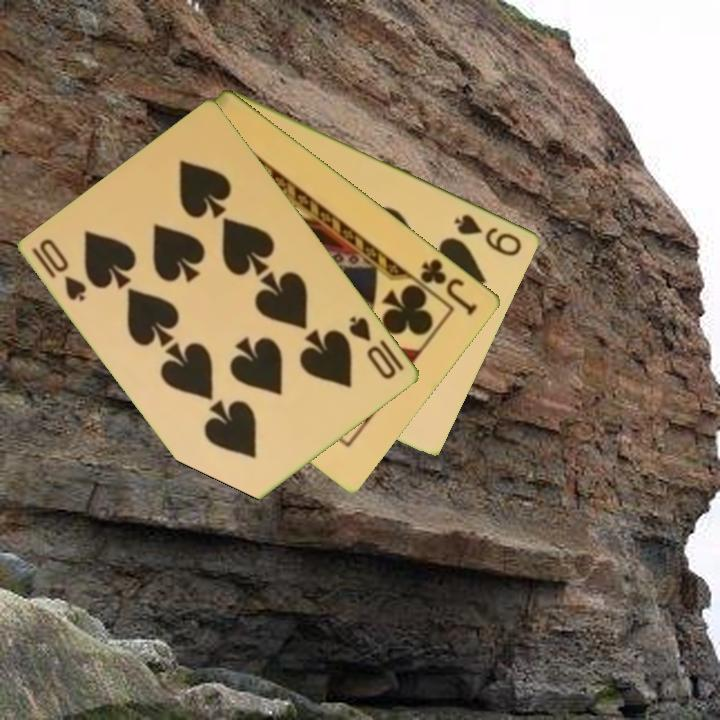10s: (345, 312, 408, 383), (28, 235, 91, 305)
9s: (451, 210, 525, 259)
Jc: (417, 254, 481, 319)
